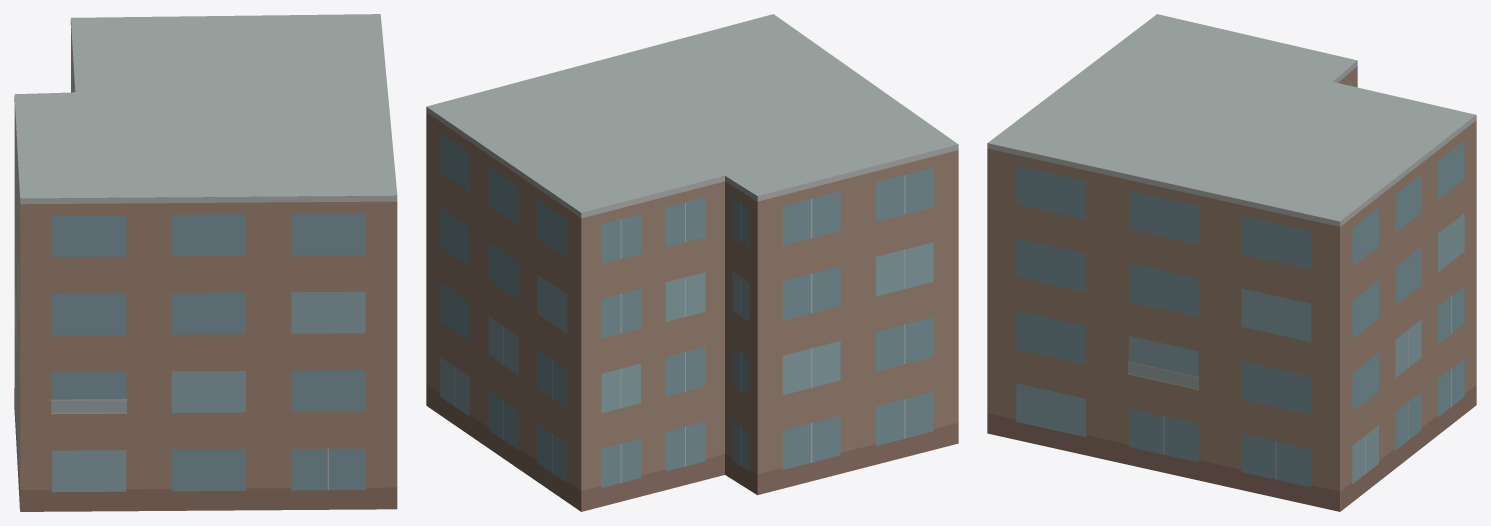
The model's file is survey-upis-32684276.glb.
The picture shows the model from 3 angles, left to right: view 1: azimuth 30°, elevation 25°; view 2: azimuth 150°, elevation 25°; view 3: azimuth 270°, elevation 25°; orthographic projection. The views are drawn at different scales.
Visible parts, largest first — view 1: survey-upis-32684276.tmp; view 2: survey-upis-32684276.tmp; view 3: survey-upis-32684276.tmp.
Boxes of the visible parts, box(x1,y1,x2,y2) form: survey-upis-32684276.tmp: box(14, 14, 397, 511); survey-upis-32684276.tmp: box(426, 14, 958, 511); survey-upis-32684276.tmp: box(987, 14, 1476, 511).
Size of the model in its own units: 20.25 by 13.2 by 20.16.
